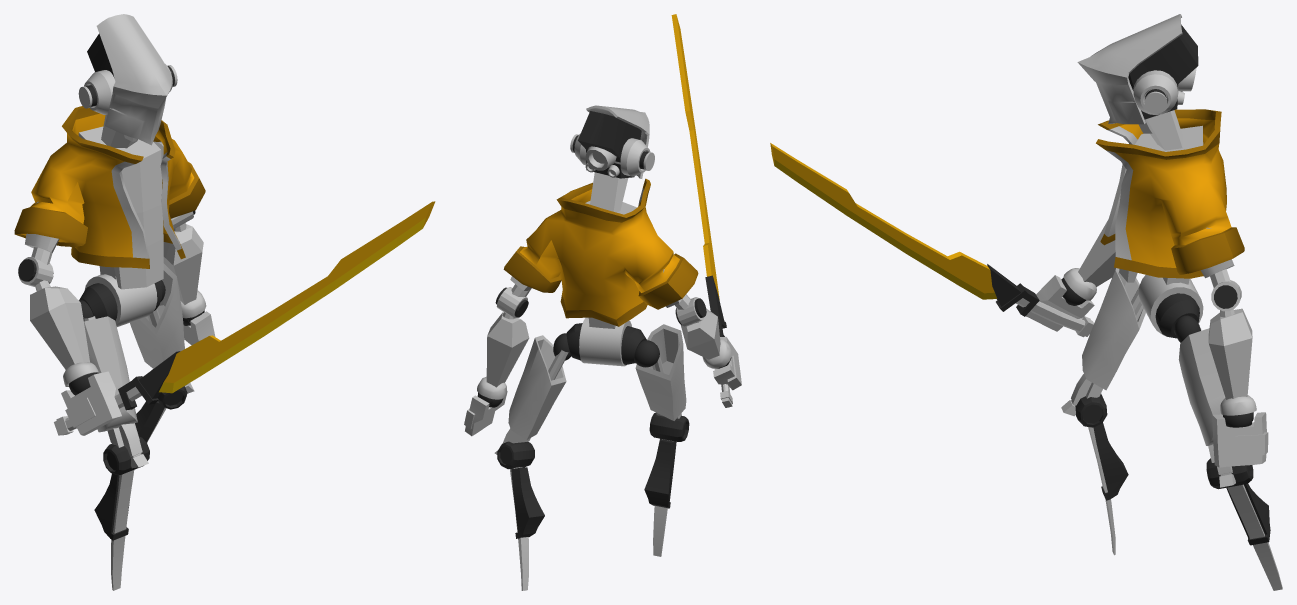
Rendered from ped_char.glb.
The picture shows the model from 3 angles, left to right: view 1: azimuth 30°, elevation 25°; view 2: azimuth 150°, elevation 25°; view 3: azimuth 270°, elevation 25°; orthographic projection. The views are drawn at different scales.
Parts seen in each view (by area): view 1: Cube.009_Cube.014, Cube.007_Cube.025, Sword_Cube.027; view 2: Cube.009_Cube.014, Cube.007_Cube.025, Sword_Cube.027, Cube.000; view 3: Cube.009_Cube.014, Cube.007_Cube.025, Sword_Cube.027, Cube.000.
Boxes of the visible parts, left/top/right/bottom form: Cube.009_Cube.014: left=18, top=14, right=215, bottom=590; Cube.007_Cube.025: left=14, top=106, right=205, bottom=268; Sword_Cube.027: left=54, top=201, right=435, bottom=435; Cube.009_Cube.014: left=464, top=105, right=741, bottom=590; Cube.007_Cube.025: left=503, top=178, right=698, bottom=326; Sword_Cube.027: left=671, top=14, right=732, bottom=407; Cube.000: left=590, top=172, right=628, bottom=212; Cube.009_Cube.014: left=1026, top=14, right=1282, bottom=590; Cube.007_Cube.025: left=1096, top=109, right=1244, bottom=278; Sword_Cube.027: left=770, top=143, right=1093, bottom=337; Cube.000: left=1138, top=110, right=1182, bottom=150.
Size of the model in its own units: 0.6109 by 1.37 by 1.16.
